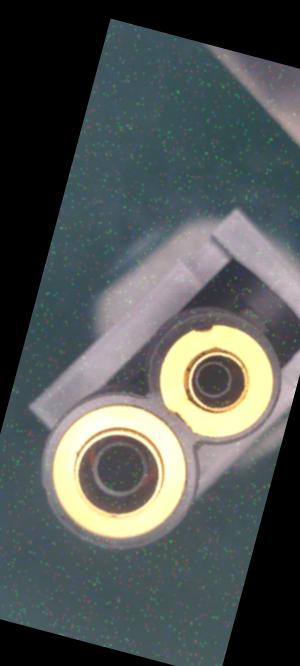bump: (166, 405, 202, 433), (183, 314, 220, 341)
